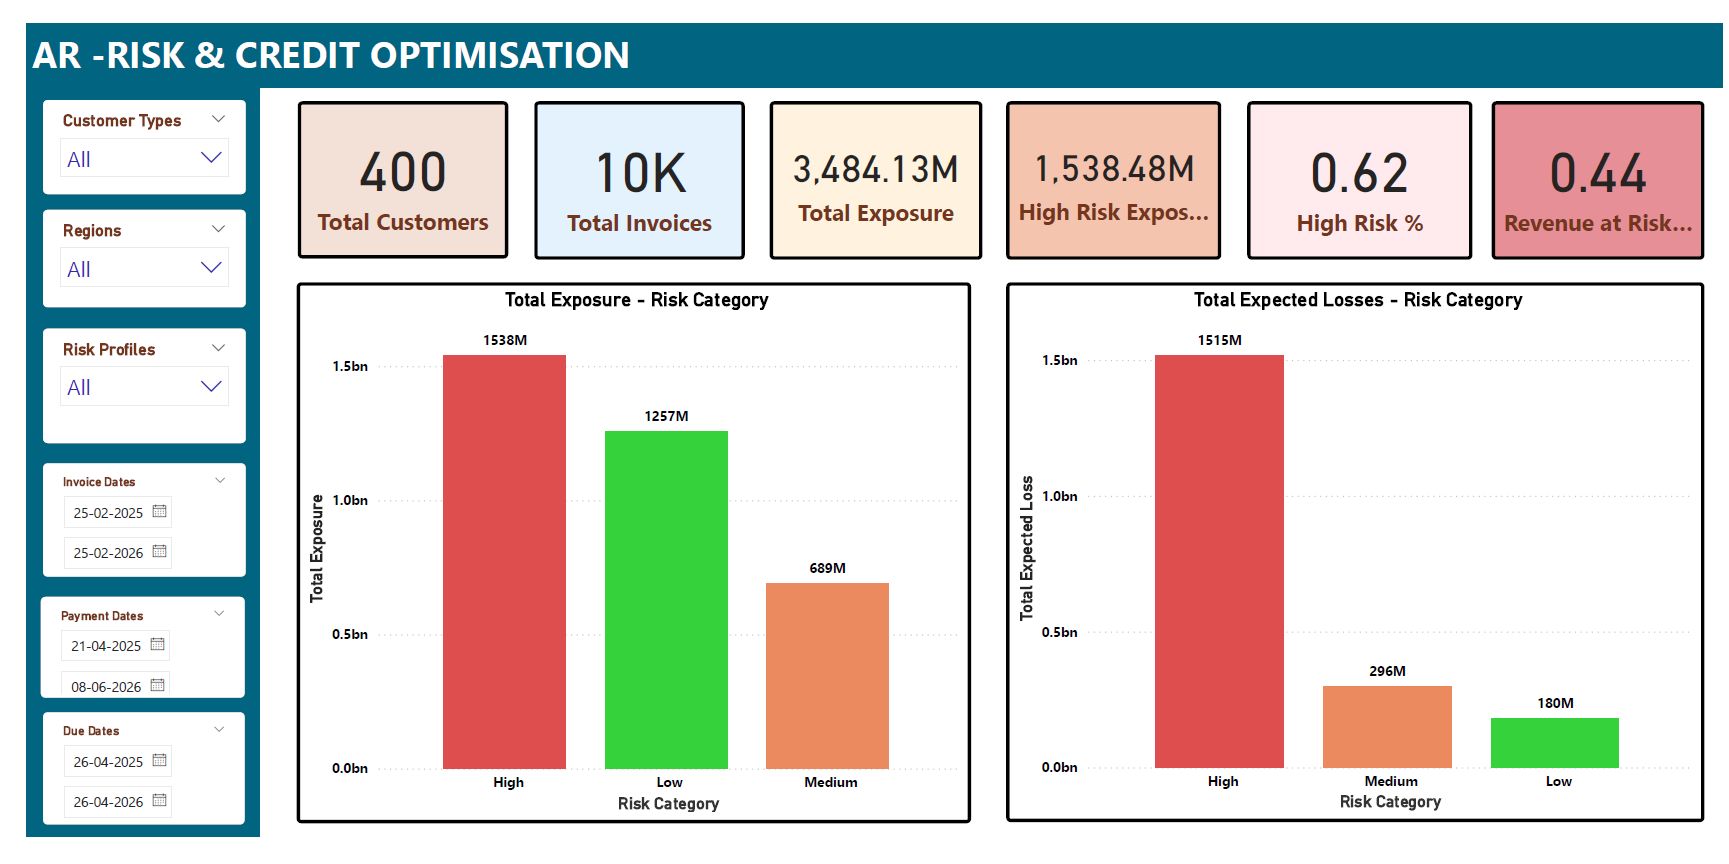

Layout of this report page (visuals, bound fields, positions):
{"tool":"powerbi","page":{"name":"Working Capital Impact","canvas":[1500,720],"ordinal":5},"visuals":[{"type":"textbox","box":[0,0,1499.4,56.7],"z":0},{"type":"textbox","box":[0,56.7,205.6,662.3],"z":1000},{"type":"slicer","fields":{"Values":["ar_risk_system customers.customer_type"]},"box":[14.6,68,179.7,82.6],"z":2000},{"type":"slicer","fields":{"Values":["ar_risk_system customers.region"]},"box":[14.6,165.2,179.7,85.8],"z":3000},{"type":"slicer","fields":{"Values":["ar_risk_system customer_risk_output.risk_category"]},"box":[14.6,270.4,179.7,100.4],"z":4000},{"type":"slicer","fields":{"Values":["ar_risk_system invoices.invoice_date"]},"box":[14.6,388.6,179.7,100.4],"z":5000},{"type":"slicer","fields":{"Values":["ar_risk_system payments.payment_date"]},"box":[13,506.8,179.7,89.1],"z":6000},{"type":"slicer","fields":{"Values":["ar_risk_system invoices.due_date"]},"box":[14.6,608.8,178.1,98.8],"z":7000},{"type":"card","fields":{"Values":["ar_risk_system customer_risk_output.Total Exposure"]},"box":[656.5,69.2,188.1,140.2],"z":8000},{"type":"card","fields":{"Values":["ar_risk_system customer_risk_output.High Risk Exposure"]},"box":[865.9,69.2,189.9,140.2],"z":9000},{"type":"card","fields":{"Values":["ar_risk_system customer_risk_output.High Risk %"]},"box":[1078.9,69.2,198.7,140.2],"z":10000},{"type":"card","fields":{"Values":["ar_risk_system customer_risk_output.Revenue at Risk %"]},"box":[1295.4,69.2,188.1,140.2],"z":11000},{"type":"card","fields":{"Values":["CountNonNull(ar_risk_system customers.customer_id)"]},"box":[239.6,69.2,186.3,138.4],"z":12000},{"type":"card","fields":{"Values":["CountNonNull(ar_risk_system invoices.invoice_id)"]},"box":[448.9,69.2,186.3,140.2],"z":12001},{"type":"clusteredColumnChart","title":"Total Exposure -  Risk Category","fields":{"Category":["ar_risk_system customer_risk_output.risk_category"],"Y":["ar_risk_system customer_risk_output.Total Exposure"]},"box":[238.7,229.4,595.8,477.4],"z":12002},{"type":"clusteredColumnChart","title":"Total Expected Losses -  Risk Category","fields":{"Category":["ar_risk_system customer_risk_output.risk_category"],"Y":["ar_risk_system customer_risk_output.Total Expected Loss"]},"box":[865.9,228.9,617.5,477.3],"z":12003}]}

Visuals, with their boxes on the page's 1500x720 design canvas (x1, y1, x2, y2). These are canvas units, not pixel positions in the 1729x864 screenshot, which may show the page scaled, cropped or inside an application window:
textbox: [0, 0, 1499, 57]
textbox: [0, 57, 206, 719]
slicer - ar_risk_system customers.customer_type: [15, 68, 194, 151]
slicer - ar_risk_system customers.region: [15, 165, 194, 251]
slicer - ar_risk_system customer_risk_output.risk_category: [15, 270, 194, 371]
slicer - ar_risk_system invoices.invoice_date: [15, 389, 194, 489]
slicer - ar_risk_system payments.payment_date: [13, 507, 193, 596]
slicer - ar_risk_system invoices.due_date: [15, 609, 193, 708]
card - ar_risk_system customer_risk_output.Total Exposure: [656, 69, 845, 209]
card - ar_risk_system customer_risk_output.High Risk Exposure: [866, 69, 1056, 209]
card - ar_risk_system customer_risk_output.High Risk %: [1079, 69, 1278, 209]
card - ar_risk_system customer_risk_output.Revenue at Risk %: [1295, 69, 1484, 209]
card - CountNonNull(ar_risk_system customers.customer_id): [240, 69, 426, 208]
card - CountNonNull(ar_risk_system invoices.invoice_id): [449, 69, 635, 209]
"Total Exposure -  Risk Category" clusteredColumnChart: [239, 229, 834, 707]
"Total Expected Losses -  Risk Category" clusteredColumnChart: [866, 229, 1483, 706]
